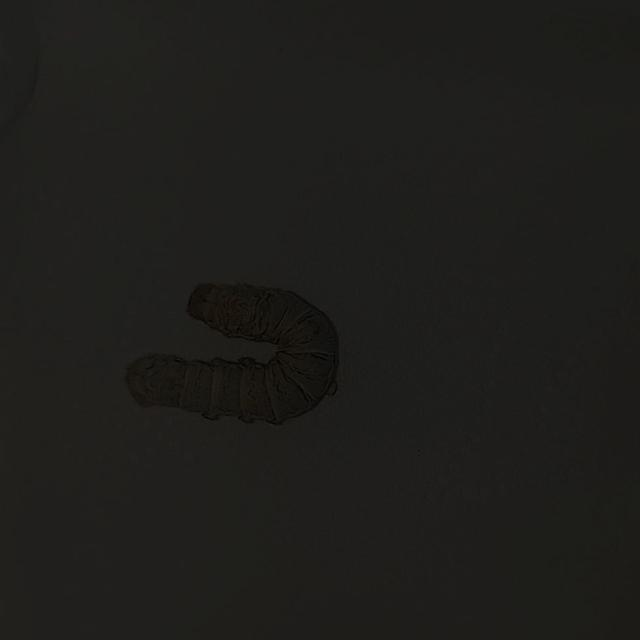Healthy: (107, 246, 393, 452)
